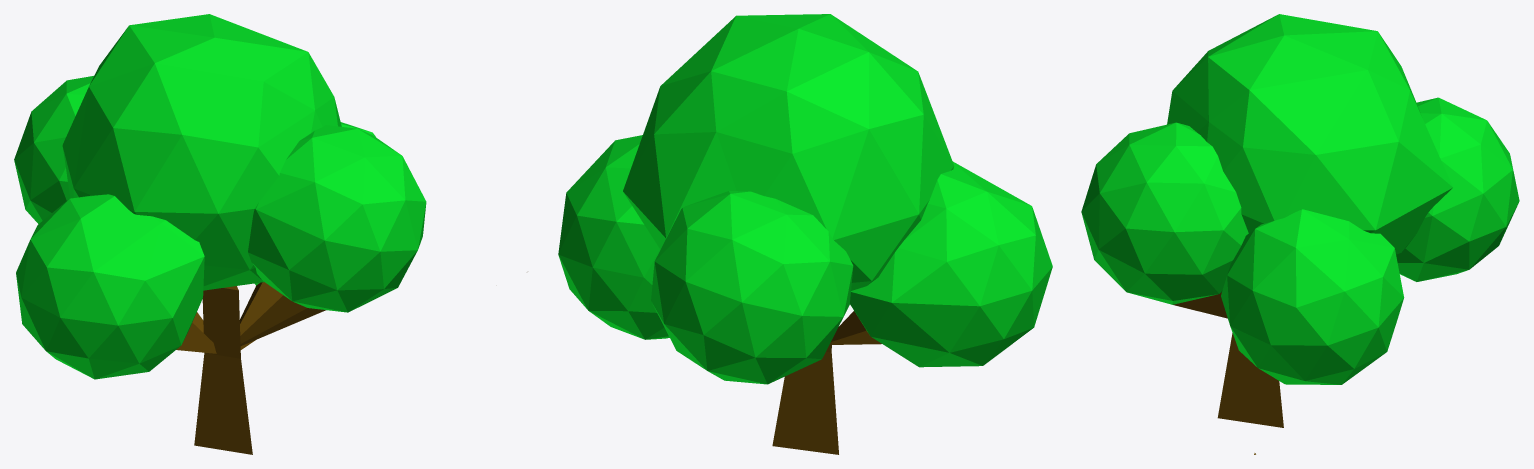
The model's file is Tree2.fbx.
The picture shows the model from 3 angles, left to right: view 1: azimuth 30°, elevation 25°; view 2: azimuth 150°, elevation 25°; view 3: azimuth 270°, elevation 25°; orthographic projection. The views are drawn at different scales.
Parts seen in each view (by area): view 1: Icosphere.004, Icosphere, Icosphere.003, Icosphere.005, Icosphere.001; view 2: Icosphere.004, Icosphere, Icosphere.005, Icosphere.001; view 3: Icosphere.004, Icosphere.001, Icosphere.003, Icosphere.005, Icosphere.
Boxes of the visible parts, x1,y1,x2,y2 form: Icosphere.004: [62, 14, 341, 290]; Icosphere: [16, 194, 252, 454]; Icosphere.003: [240, 125, 426, 345]; Icosphere.005: [14, 76, 203, 332]; Icosphere.001: [239, 122, 375, 349]; Icosphere.004: [623, 14, 954, 304]; Icosphere: [772, 161, 1052, 454]; Icosphere.005: [651, 191, 853, 384]; Icosphere.001: [558, 135, 669, 339]; Icosphere.004: [1167, 14, 1452, 254]; Icosphere.001: [1221, 209, 1404, 454]; Icosphere.003: [1081, 122, 1248, 318]; Icosphere.005: [1396, 97, 1519, 281]; Icosphere: [1217, 333, 1283, 427].
Bounding box in the file's own units: 105 × 83.45 × 86.7.
